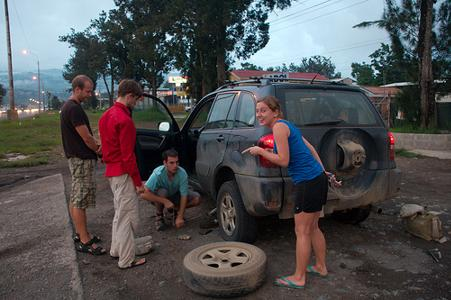person: (138, 150, 201, 232)
